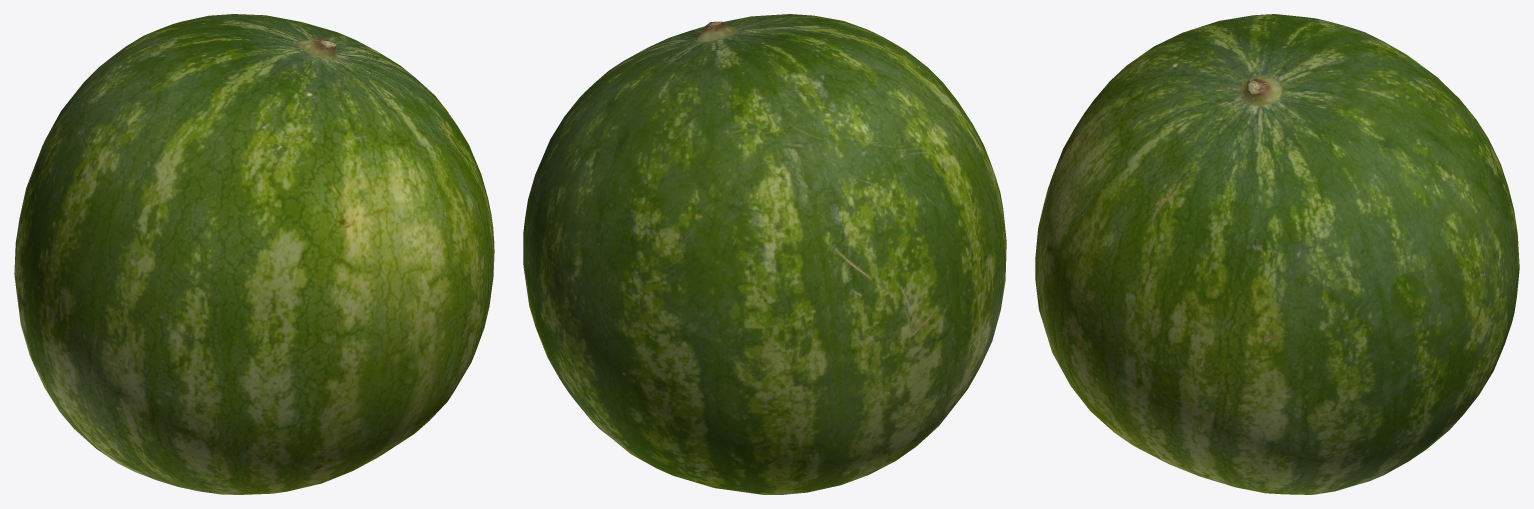
Rendered from watermelon.glb.
3 renders of one model, left to right at view 1: azimuth 30°, elevation 25°; view 2: azimuth 150°, elevation 25°; view 3: azimuth 270°, elevation 25°, orthographic.
Parts seen in each view (by area): view 1: ujdjfddjw_LOD0_TIER2_000_MatID_1_0; view 2: ujdjfddjw_LOD0_TIER2_000_MatID_1_0; view 3: ujdjfddjw_LOD0_TIER2_000_MatID_1_0.
Part boxes in pixels (left/top/right/bottom): ujdjfddjw_LOD0_TIER2_000_MatID_1_0: left=14, top=14, right=494, bottom=494; ujdjfddjw_LOD0_TIER2_000_MatID_1_0: left=523, top=14, right=1006, bottom=494; ujdjfddjw_LOD0_TIER2_000_MatID_1_0: left=1035, top=14, right=1519, bottom=494.
Size of the model in its own units: 0.135 by 0.1306 by 0.1358.
1 material, 1 textured.
